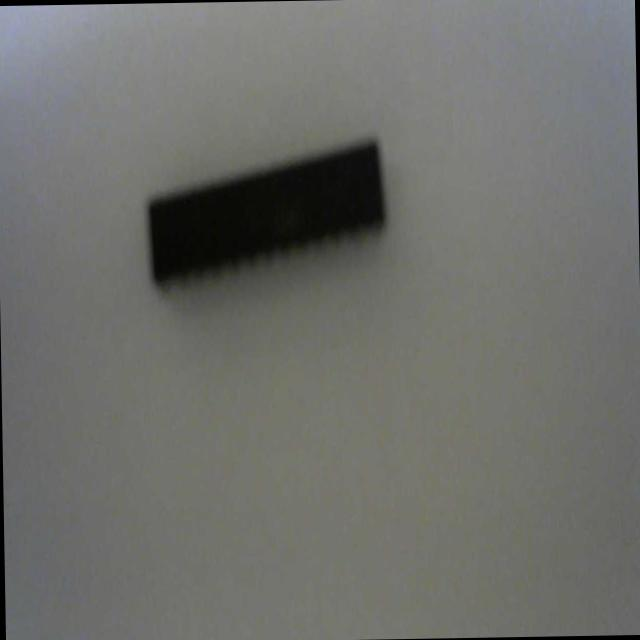atmega: (143, 132, 389, 292)
